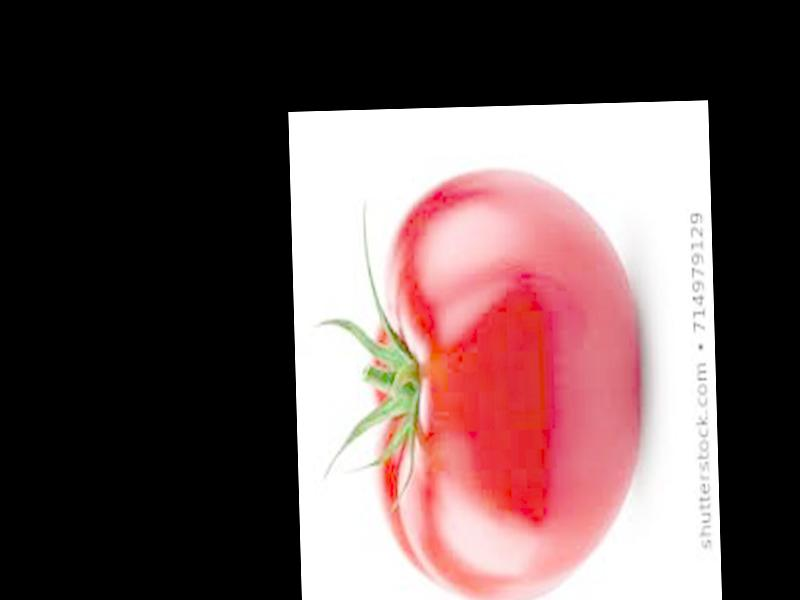Tomato: (370, 165, 644, 600)
